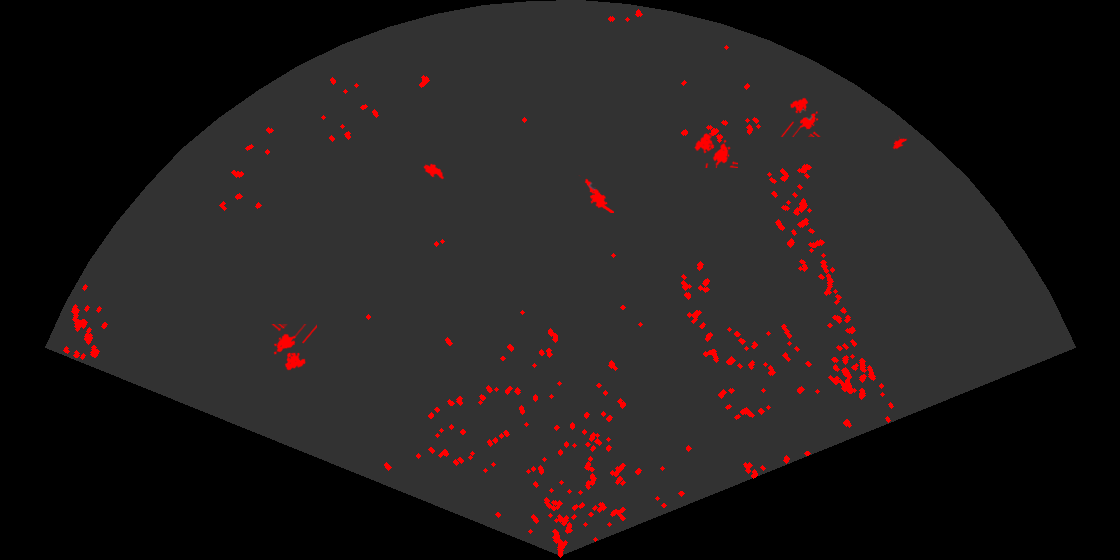AUV: (422, 162, 446, 181), (891, 135, 909, 151)
cage: (270, 324, 317, 372), (779, 96, 822, 137), (692, 131, 738, 168)
frogman: (577, 175, 614, 213)
